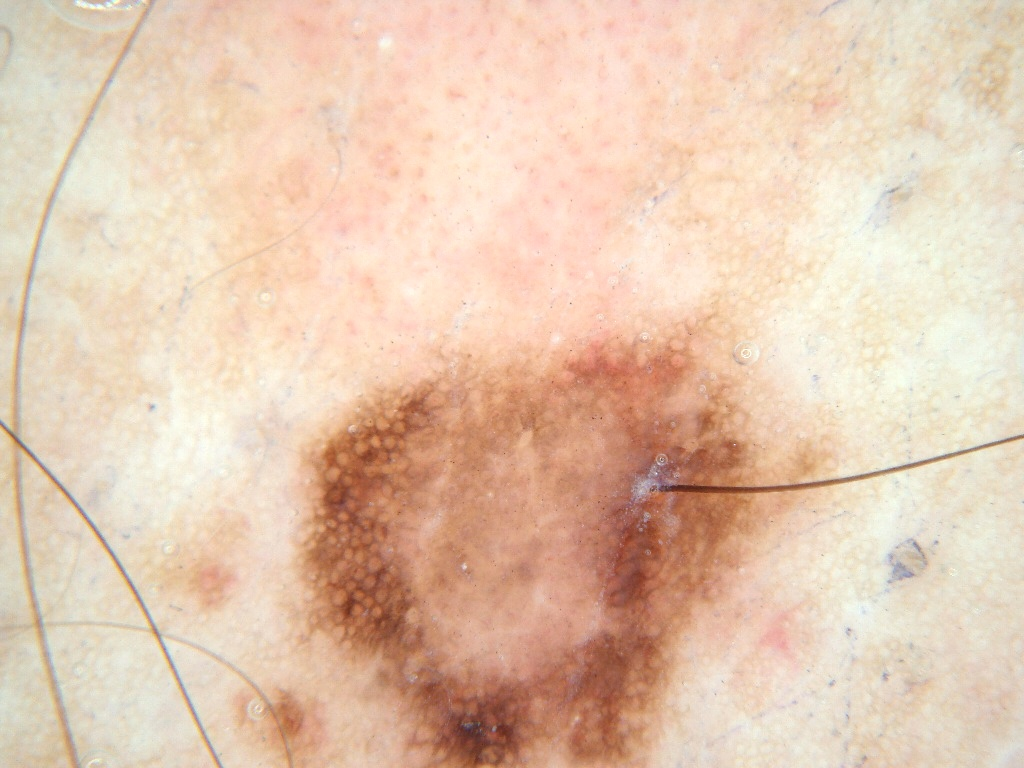Detected Lesion: (243, 317, 820, 768)
